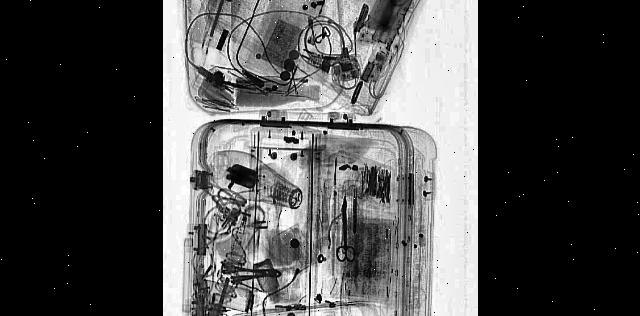Scissors: (336, 195, 354, 263)
